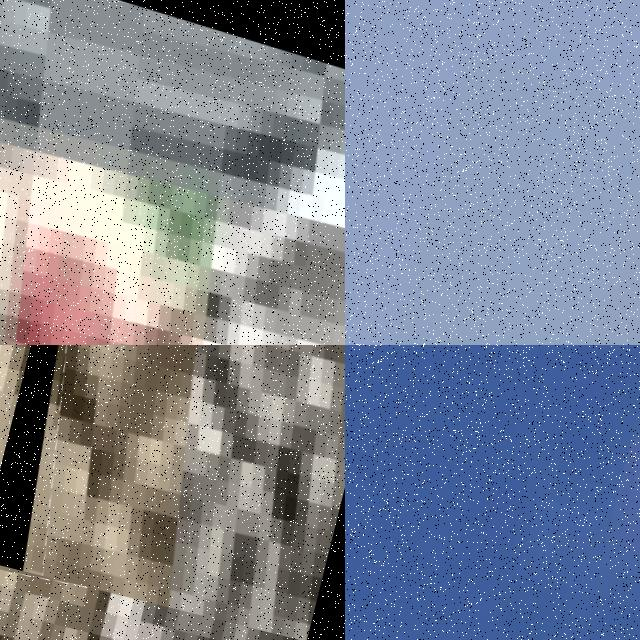drone: (0, 0, 345, 345), (0, 345, 345, 640)
